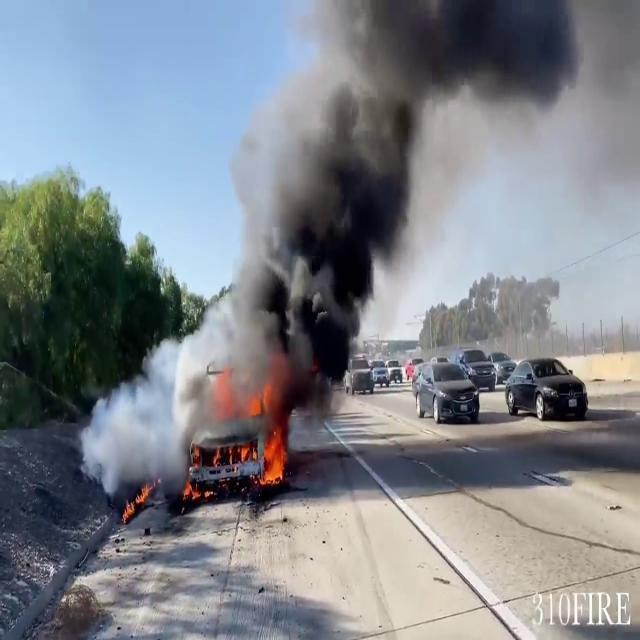Fire: (240, 391, 291, 488)
Smoke: (227, 0, 577, 394), (83, 308, 227, 510)
